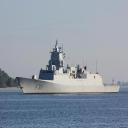Fragata: (17, 39, 122, 97)
